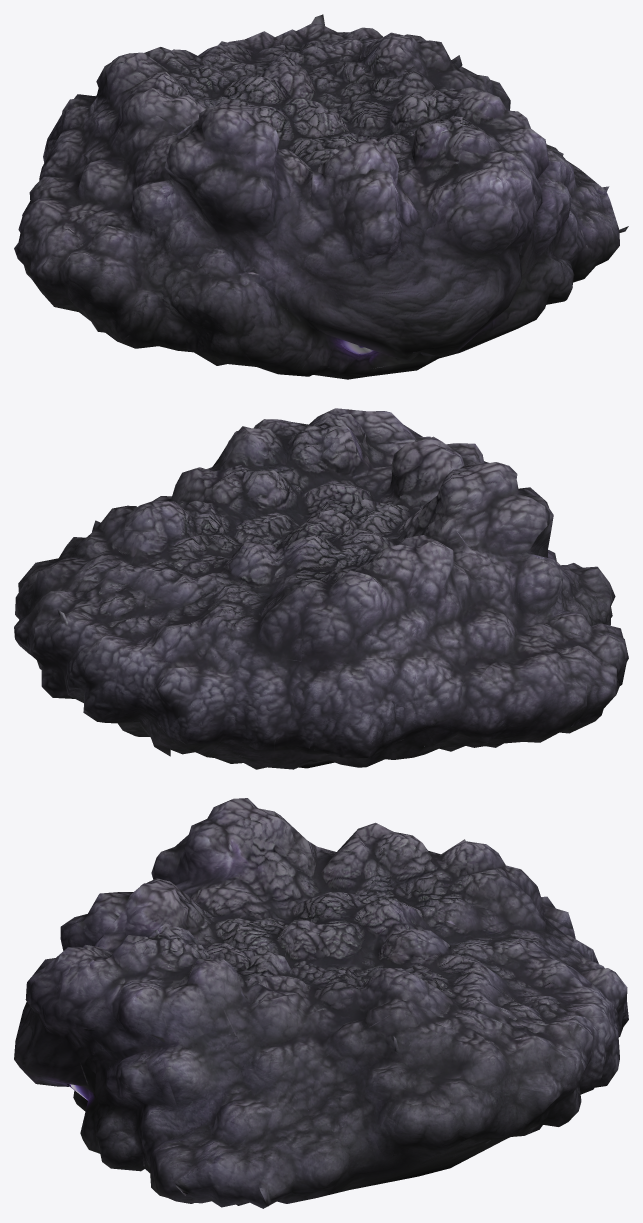
File: Meshy_AI_Spectral_Storm_0527033004_texture.fbx
The picture shows the model from 3 angles, top to bottom: view 1: azimuth 30°, elevation 25°; view 2: azimuth 150°, elevation 25°; view 3: azimuth 270°, elevation 25°; orthographic projection. The views are drawn at different scales.
Visible parts, largest first — view 1: Mesh1.0; view 2: Mesh1.0; view 3: Mesh1.0.
Part boxes in pixels (left/top/right/bottom): Mesh1.0: left=14, top=14, right=628, bottom=379; Mesh1.0: left=14, top=408, right=628, bottom=769; Mesh1.0: left=14, top=798, right=628, bottom=1208.
Bounding box in the file's own units: 191 × 82.33 × 176.
1 material, 1 textured.
